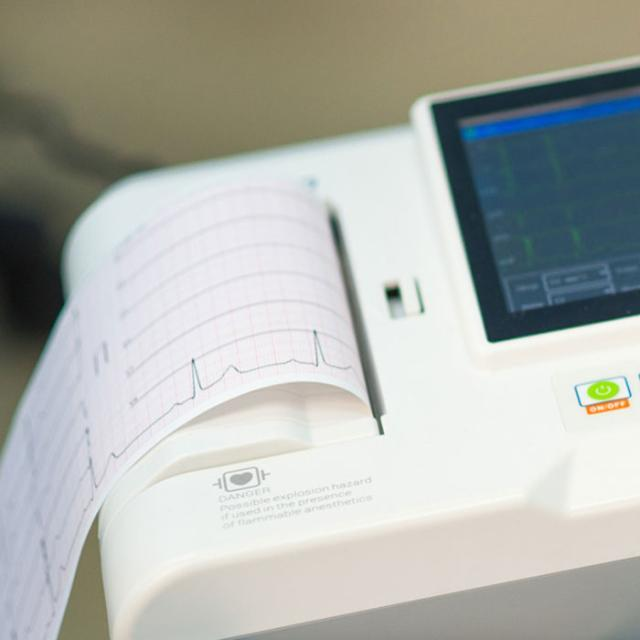Monitor: (0, 51, 639, 639)
